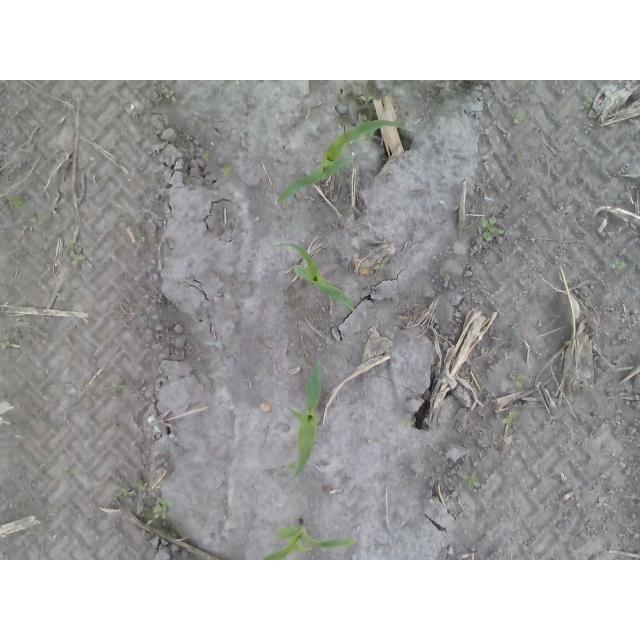Maize: (277, 119, 411, 202), (275, 243, 358, 313), (287, 362, 323, 482), (260, 520, 356, 561)
Weeds: (146, 496, 174, 525), (481, 216, 504, 240), (5, 194, 23, 208), (70, 251, 86, 266), (464, 473, 481, 487), (612, 259, 627, 274), (502, 411, 519, 424), (374, 258, 389, 271), (512, 111, 525, 126), (164, 88, 177, 103), (362, 131, 375, 145), (511, 375, 525, 387), (402, 416, 414, 429), (580, 98, 592, 110), (117, 486, 128, 499), (1, 336, 10, 349), (286, 462, 297, 472), (360, 96, 374, 103), (220, 166, 232, 174), (138, 481, 147, 491), (55, 293, 65, 300), (133, 233, 143, 240), (65, 241, 75, 248), (30, 216, 38, 223), (363, 114, 369, 122), (203, 153, 210, 159), (440, 272, 448, 277), (564, 340, 572, 345)
